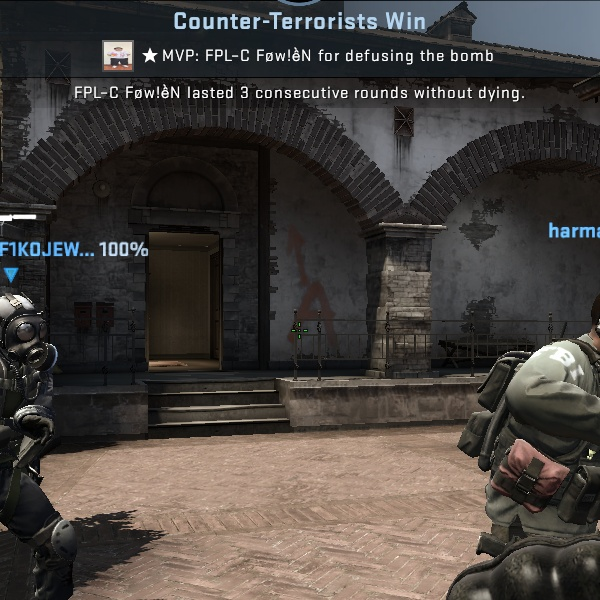ct_body: (1, 276, 127, 600)
